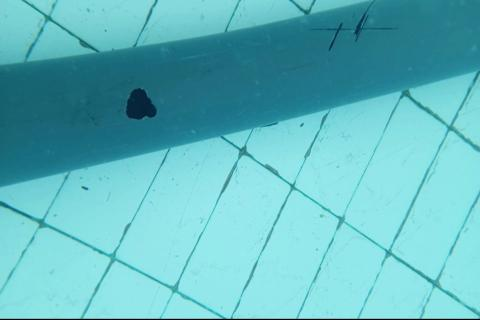kebocoran: (124, 86, 158, 121)
keretakan: (311, 0, 398, 48)
